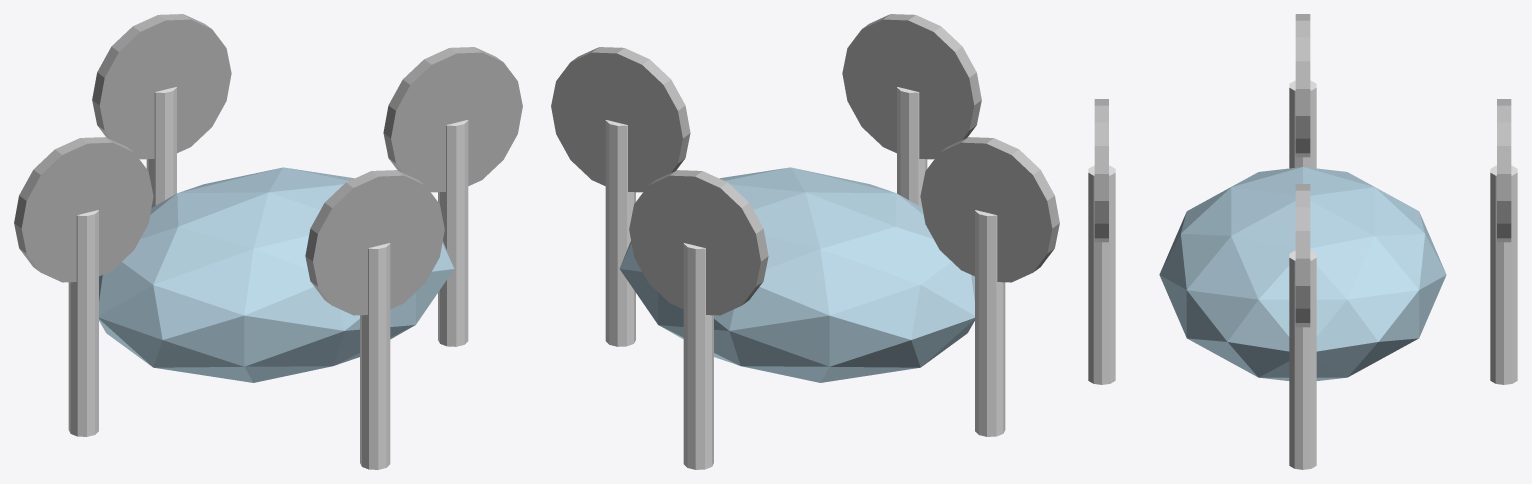
Rendered from recon-drone.glb.
3 views of the same model, side by side, from view 1: azimuth 30°, elevation 25°; view 2: azimuth 150°, elevation 25°; view 3: azimuth 270°, elevation 25° (orthographic). The views are drawn at different scales.
Visible parts, largest first — view 1: world; view 2: world; view 3: world.
Boxes of the visible parts, x1=… form: world: x1=14, y1=14, x2=522, y2=469; world: x1=551, y1=14, x2=1059, y2=469; world: x1=1088, y1=14, x2=1517, y2=469.
Size of the model in its own units: 2 by 1.11 by 1.57.
Materials: 1 (1 with a texture image).
